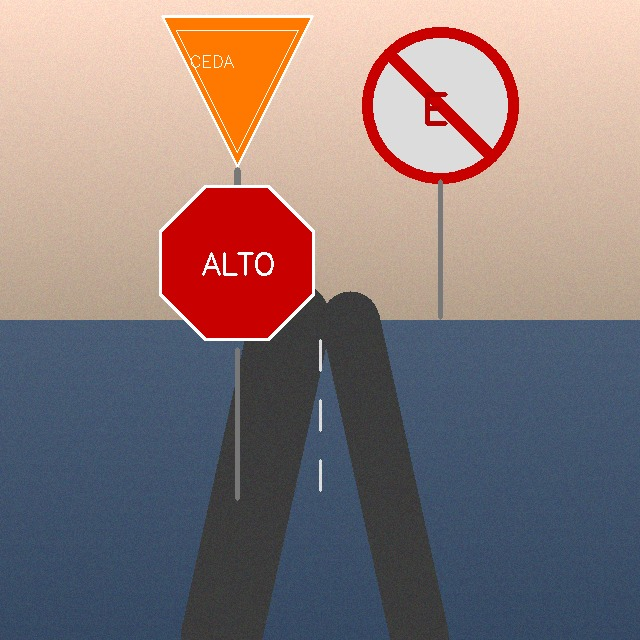alto: (152, 178, 323, 349)
ceda_el_paso: (158, 12, 316, 170)
no_estacionar: (365, 30, 516, 181)
